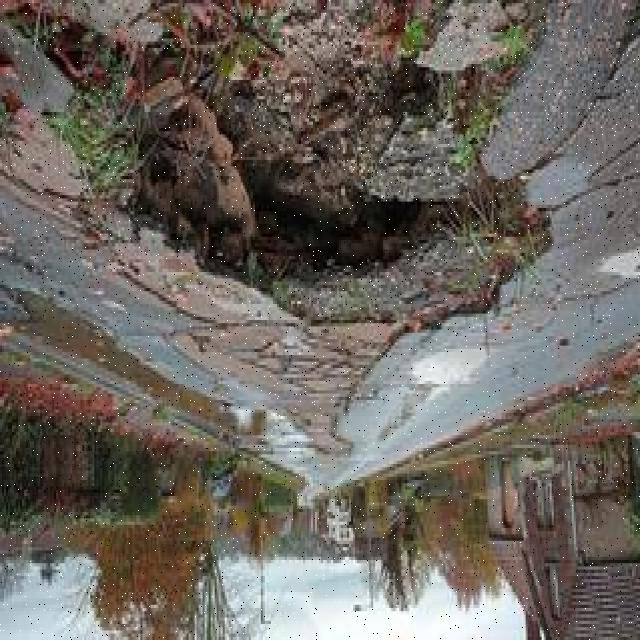road collapse: (43, 6, 618, 522)
